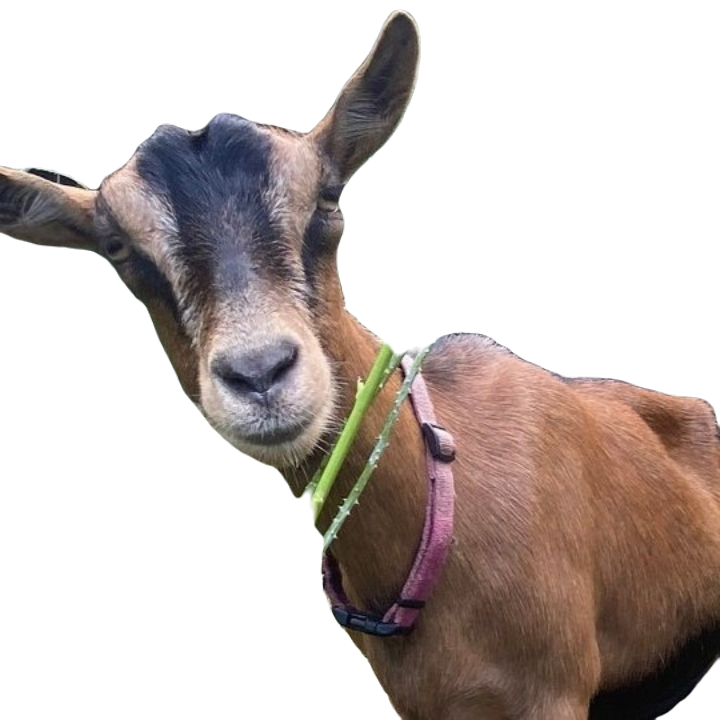Goat: (0, 7, 720, 719)
